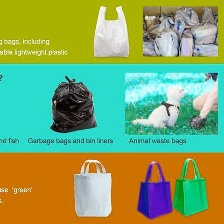plastic_bag: (46, 72, 103, 133), (91, 4, 131, 60)
